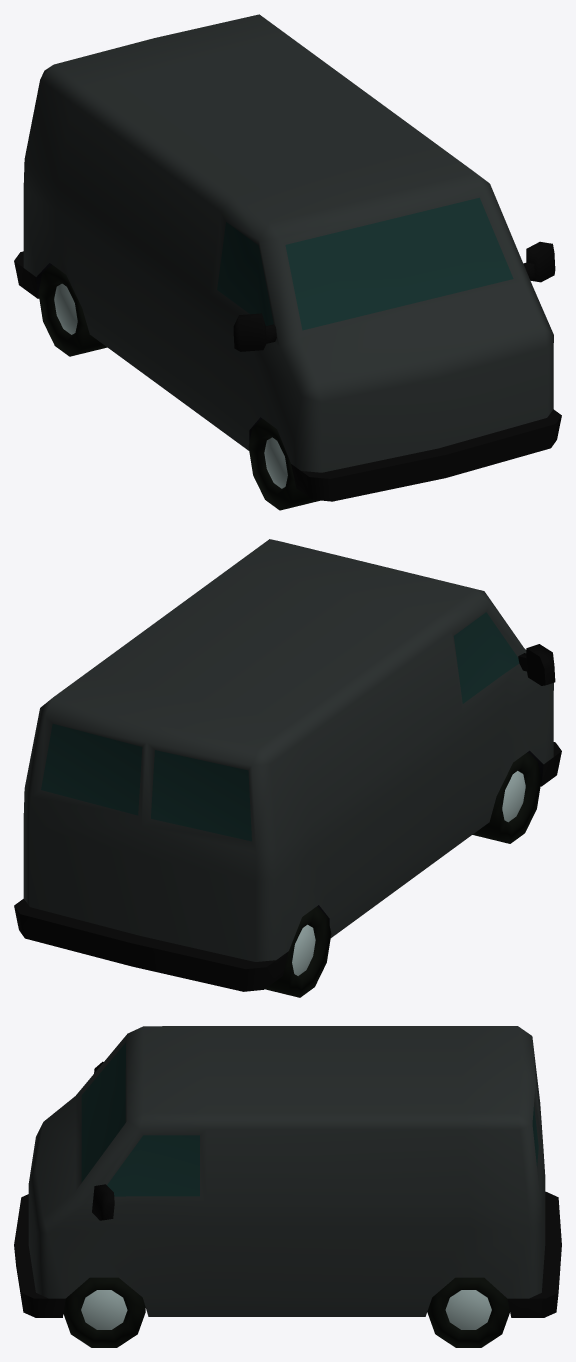
File: van.fbx
3 views of the same model, one above another, from view 1: azimuth 30°, elevation 25°; view 2: azimuth 150°, elevation 25°; view 3: azimuth 270°, elevation 25° (orthographic). The views are drawn at different scales.
Parts seen in each view (by area): view 1: pCylinder4; view 2: pCylinder4; view 3: pCylinder4.
Part boxes in pixels (x1,y1,x2,y2): pCylinder4: [14, 14, 561, 510]; pCylinder4: [14, 539, 561, 997]; pCylinder4: [14, 1026, 561, 1347].
Bounding box in the file's own units: 128 × 99.25 × 218.
